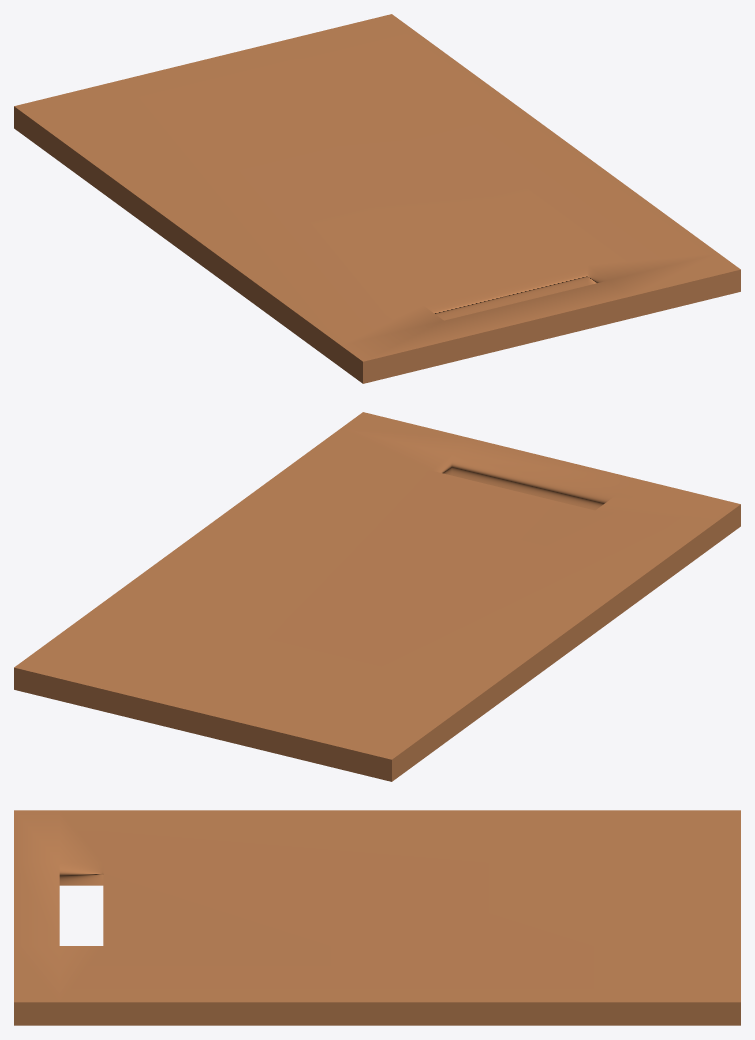
The model's file is CuttingBoard.fbx.
The picture shows the model from 3 angles, top to bottom: view 1: azimuth 30°, elevation 25°; view 2: azimuth 150°, elevation 25°; view 3: azimuth 270°, elevation 25°; orthographic projection. The views are drawn at different scales.
Visible parts, largest first — view 1: pCube1; view 2: pCube1; view 3: pCube1.
Boxes of the visible parts, x1,y1,x2,y2 form: pCube1: (14,14,740,383); pCube1: (14,412,740,781); pCube1: (14,810,740,1025).
Size of the model in its own units: 24.17 by 1.36 by 38.68.
